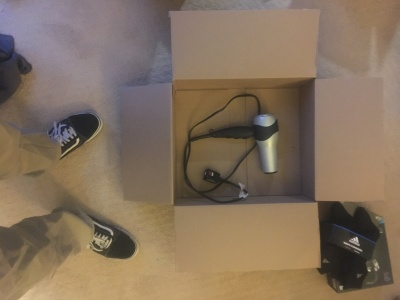innerbox: (170, 79, 314, 200)
outerbox: (123, 11, 383, 267)
product: (213, 108, 281, 173)
